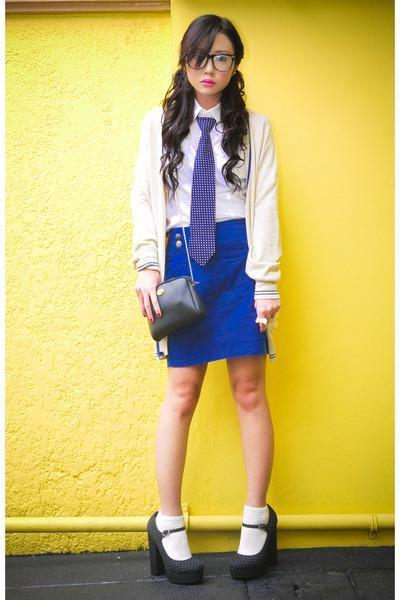short sleeve shirt: (163, 98, 253, 233)
skirt: (154, 218, 272, 368)
sweater: (129, 101, 282, 339)
